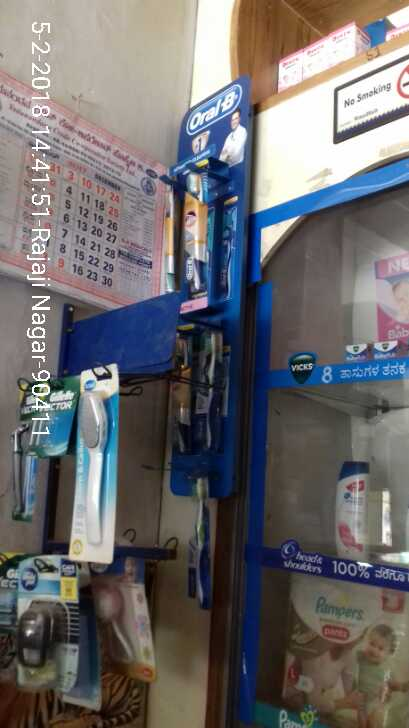beauty: (275, 571, 404, 728), (334, 458, 374, 566)
pharmacy: (192, 463, 216, 612), (184, 160, 208, 298)
